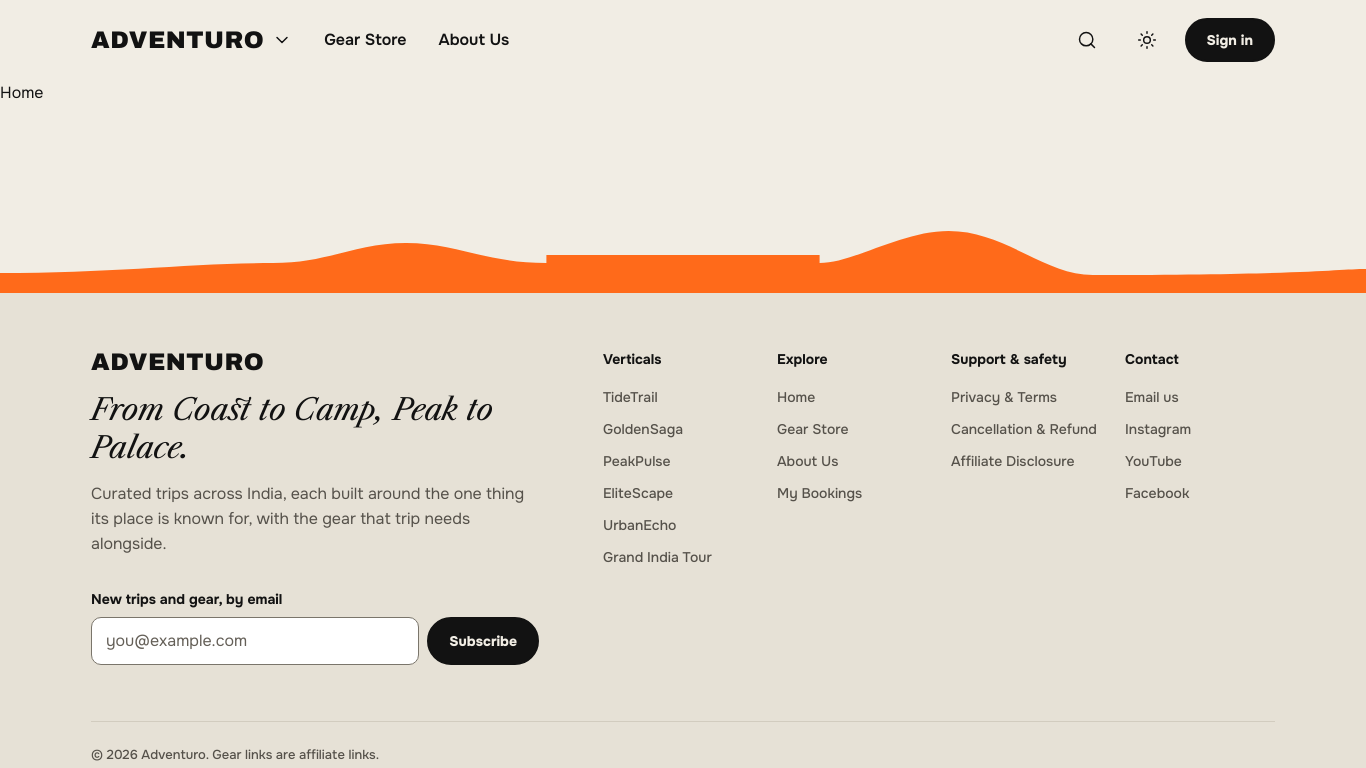
SearchOverlay › opens from the navbar icon with focus in the search box
Step 1. Click the button named "Search" → (1086, 40), box top-left (1064, 18), bottom-right (1108, 62)
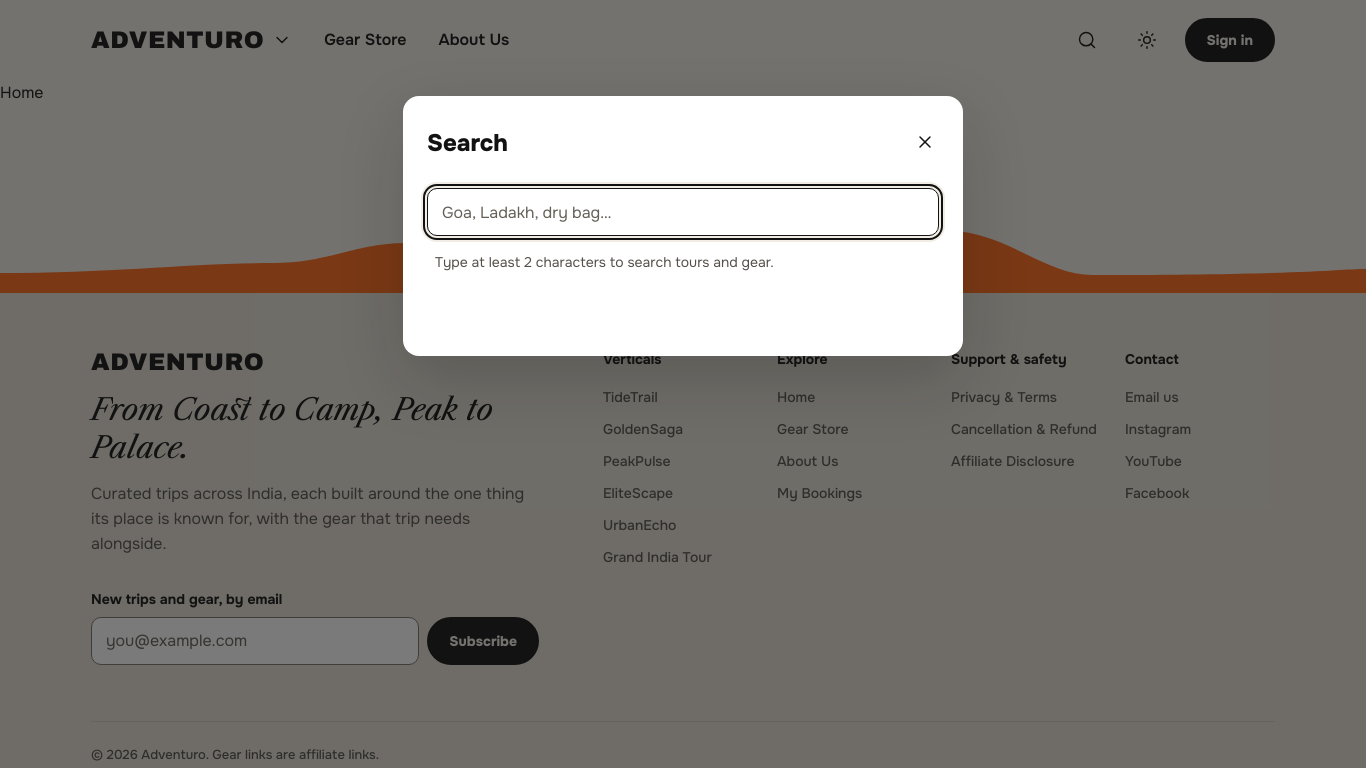
Expected: the text "Type at least 2 characters to search tours and gear." is shown, top-left (435, 253), bottom-right (774, 271)
